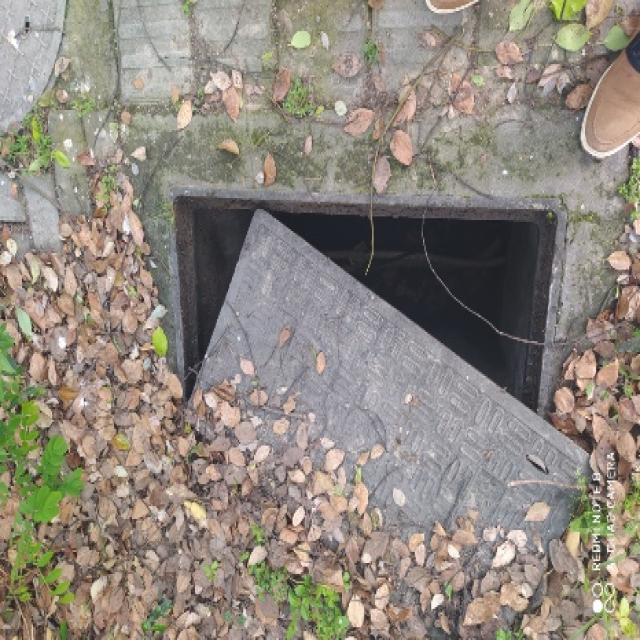Lose: (150, 171, 586, 640)
